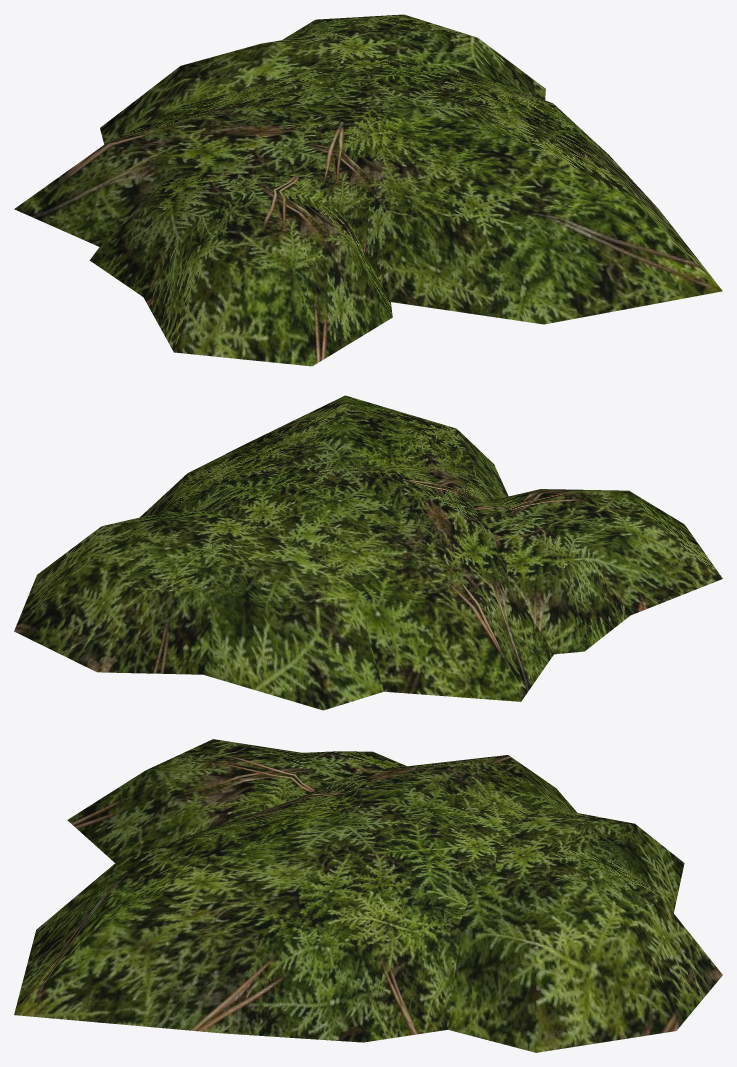
File: veg_moss_cushion.glb
The picture shows the model from 3 angles, top to bottom: view 1: azimuth 30°, elevation 25°; view 2: azimuth 150°, elevation 25°; view 3: azimuth 270°, elevation 25°; orthographic projection. The views are drawn at different scales.
Visible parts, largest first — view 1: veg_moss_cushion; view 2: veg_moss_cushion; view 3: veg_moss_cushion.
Boxes of the visible parts, x1,y1,x2,y2 form: veg_moss_cushion: (14,14,722,366); veg_moss_cushion: (14,395,722,710); veg_moss_cushion: (14,739,722,1052).
Bounding box in the file's own units: 0.8933 × 0.17 × 0.9626.
1 material, 1 textured.
